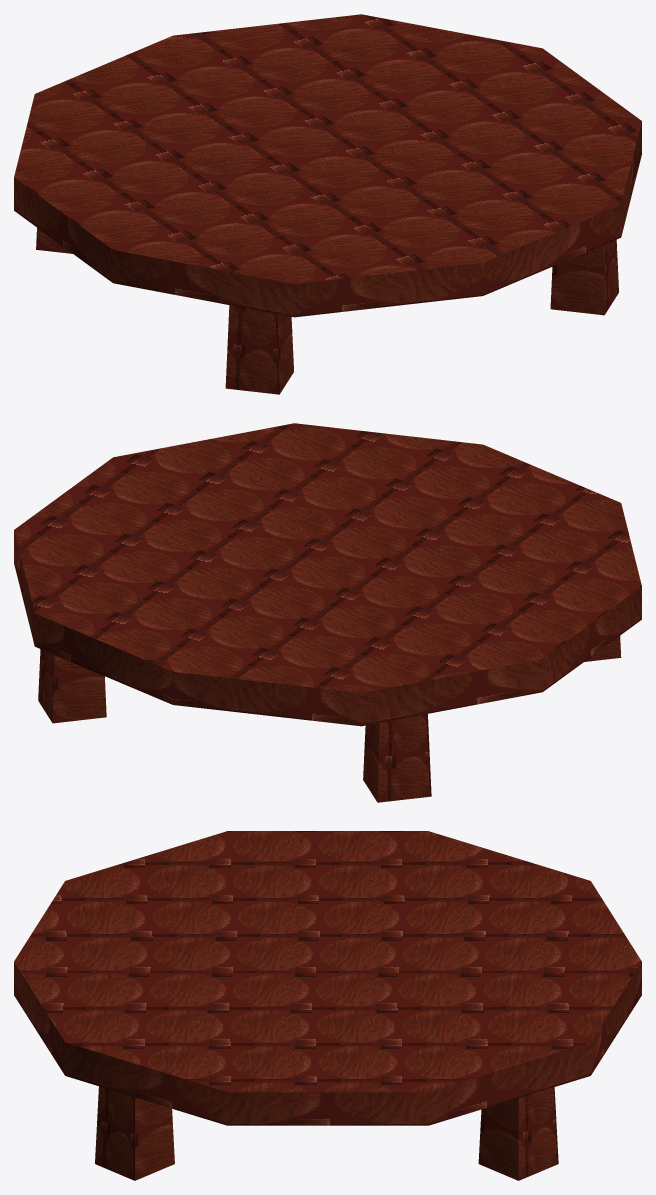
Rendered from 3037IMRL01_08.gltf.
The picture shows the model from 3 angles, top to bottom: view 1: azimuth 30°, elevation 25°; view 2: azimuth 150°, elevation 25°; view 3: azimuth 270°, elevation 25°; orthographic projection.
Parts seen in each view (by area): view 1: 3037IMRL01_08; view 2: 3037IMRL01_08; view 3: 3037IMRL01_08.
Boxes of the visible parts, x1,y1,x2,y2 form: 3037IMRL01_08: (14,14,641,394); 3037IMRL01_08: (14,423,641,802); 3037IMRL01_08: (14,831,641,1180).
Size of the model in its own units: 2 by 0.438 by 2.03.
1 material, 1 textured.
